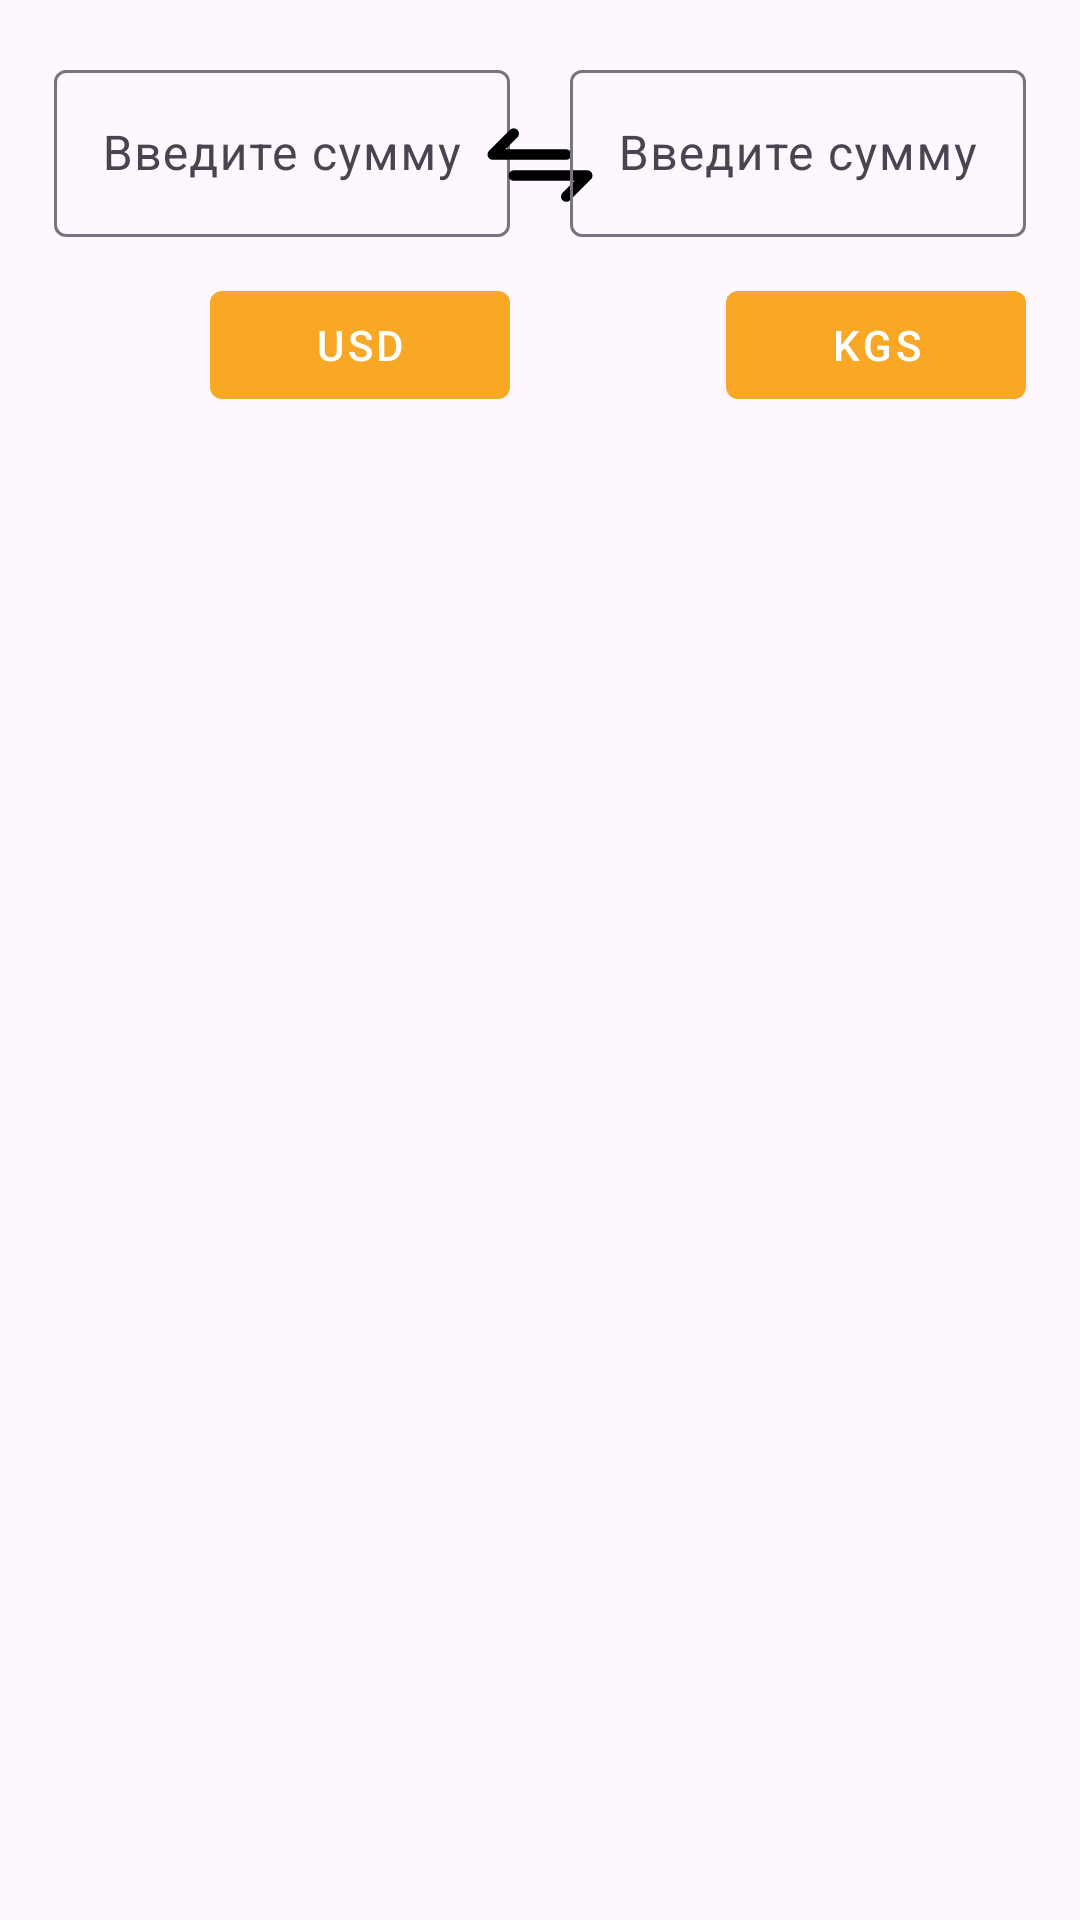

Where icons sit on this 1080 x 1920 app screen, as (x1, y1, x2, y2):
arrows exchange: (487, 102, 593, 228)
